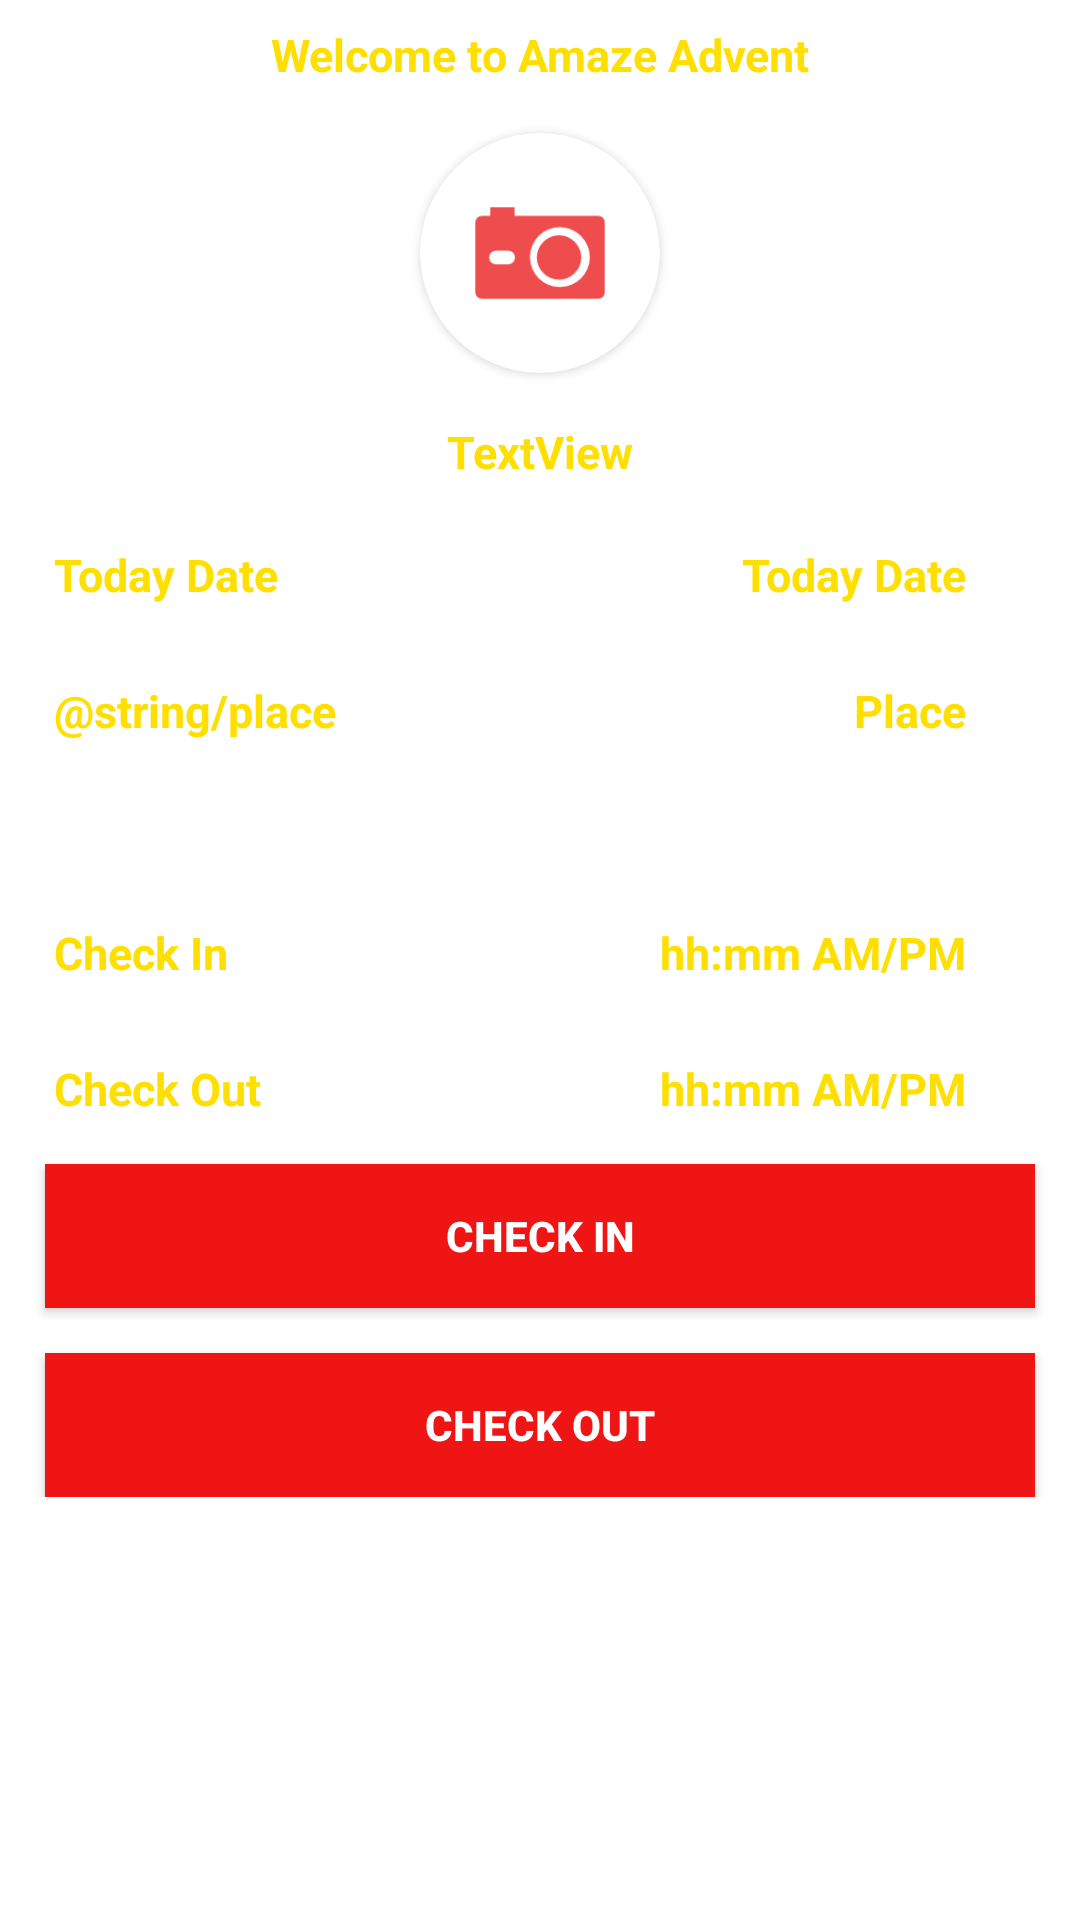

Named icons in this screenshot (1080x1920) and their centers, (x,y):
Your Photo: (540,253)
